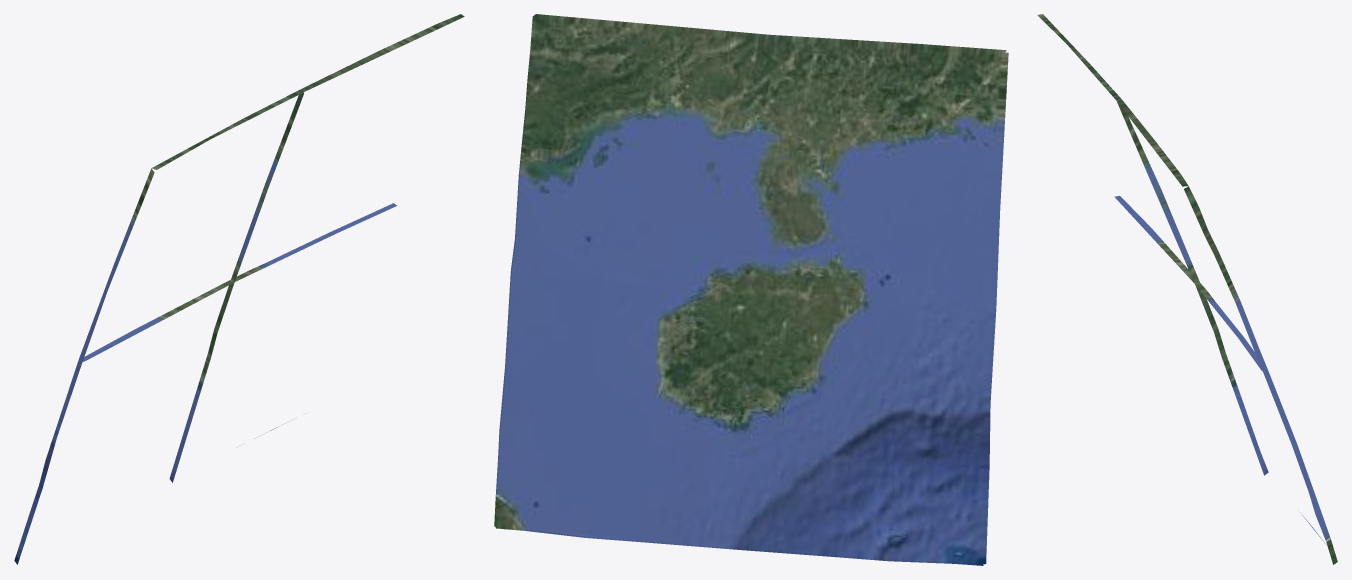
3 views of the same model, side by side, from view 1: azimuth 30°, elevation 25°; view 2: azimuth 150°, elevation 25°; view 3: azimuth 270°, elevation 25° (orthographic). The views are drawn at different scales.
Bounding box in the file's own units: 631672 × 594577 × 404528.
Materials: 1 (1 with a texture image).
